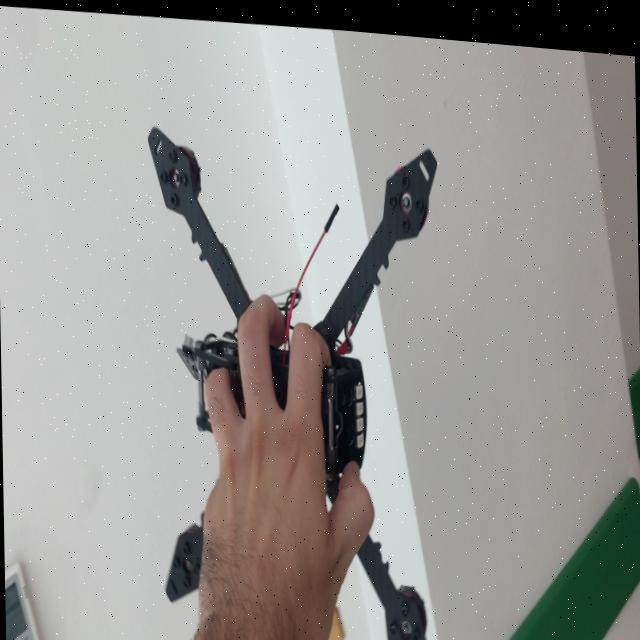drone: (129, 95, 451, 640)
